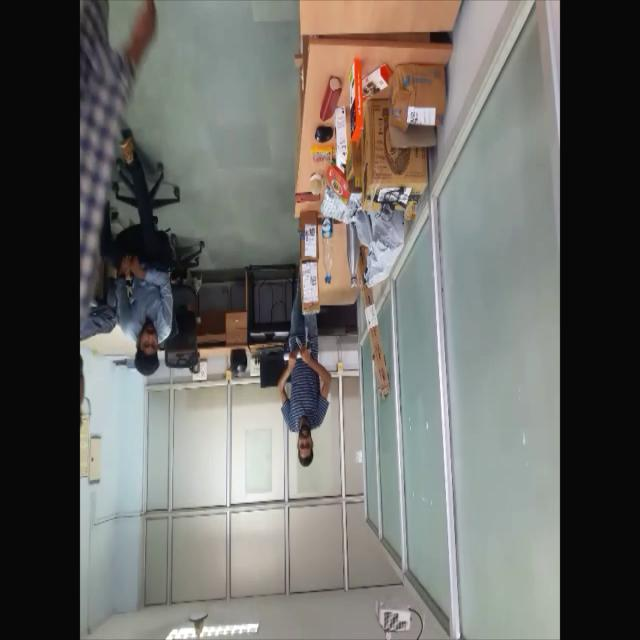normal: (81, 115, 181, 402), (277, 202, 330, 472)
